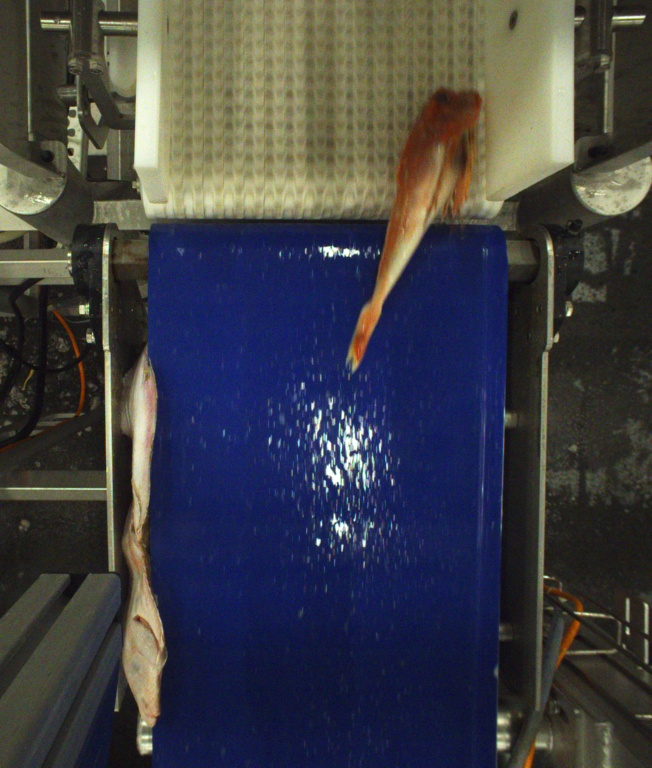GUU: (345, 88, 484, 375)
